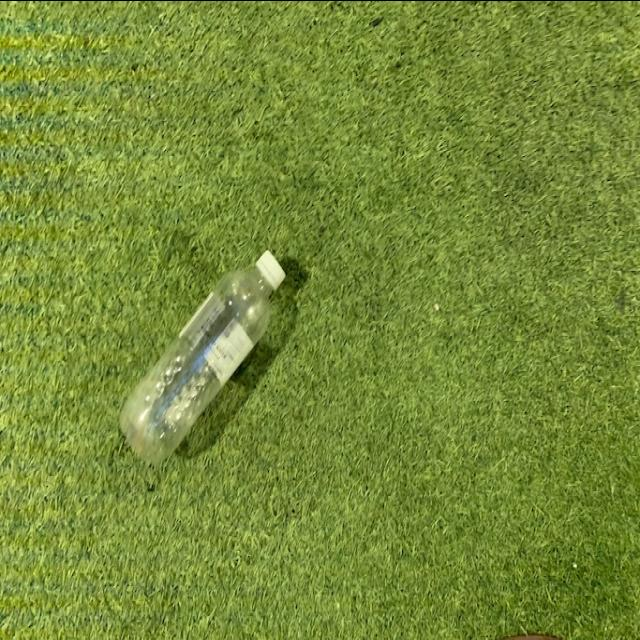litter: (117, 248, 289, 470)
